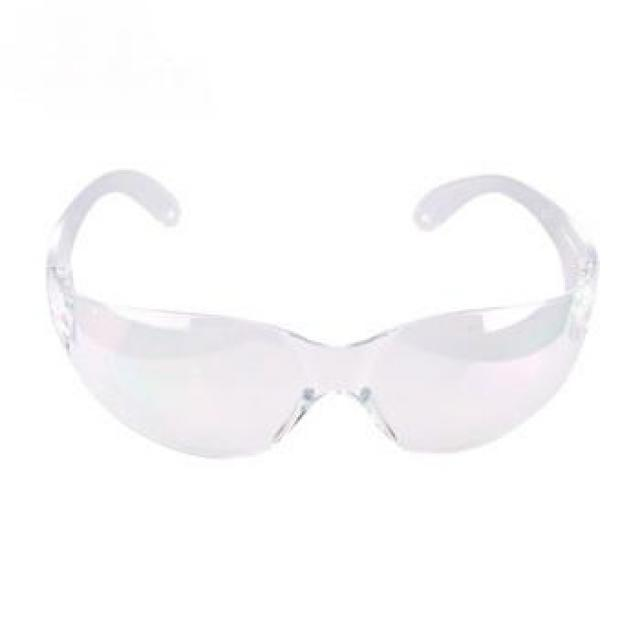Protective Glasses: (26, 144, 619, 531)
